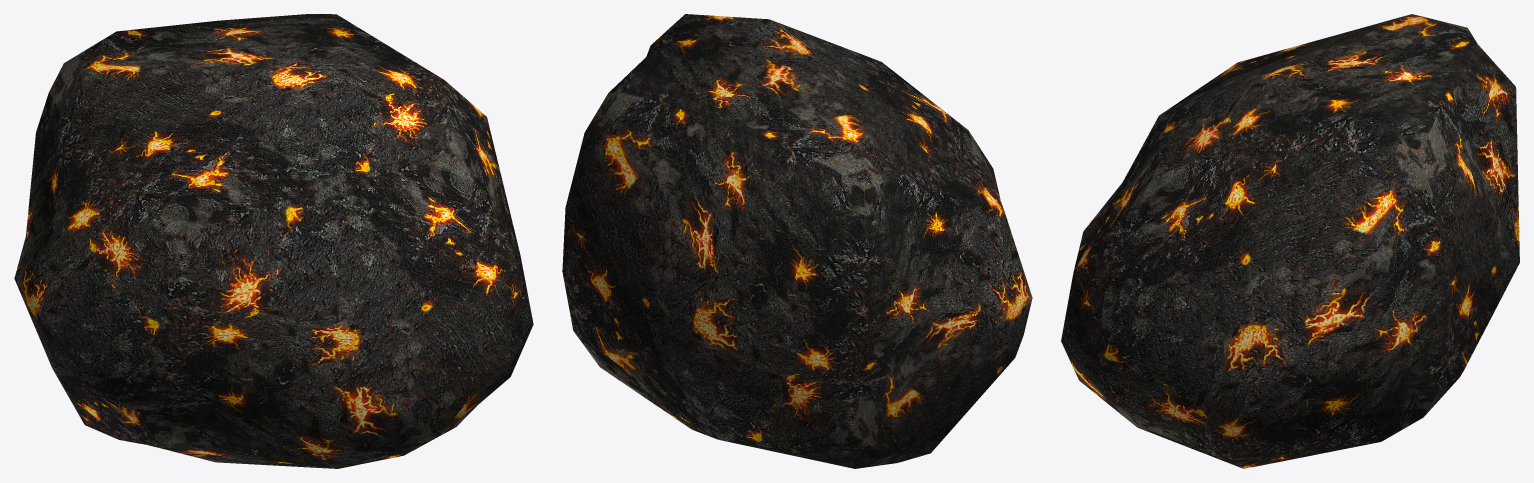
File: asteroid_moltenrock_small_s02_l1.fbx
3 renders of one model, left to right at view 1: azimuth 30°, elevation 25°; view 2: azimuth 150°, elevation 25°; view 3: azimuth 270°, elevation 25°, orthographic. The views are drawn at different scales.
Visible parts, largest first — view 1: mesh_node; view 2: mesh_node; view 3: mesh_node.
Boxes of the visible parts, left/top/right/bottom form: mesh_node: left=14, top=14, right=533, bottom=468; mesh_node: left=562, top=14, right=1032, bottom=468; mesh_node: left=1061, top=14, right=1519, bottom=468.
Bounding box in the file's own units: 28.66 × 23.05 × 26.21.
1 material, 1 textured.
